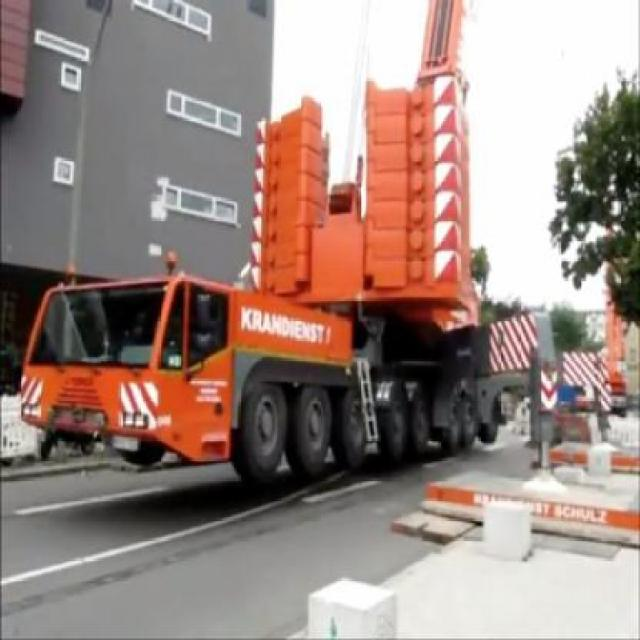Mobile Crane: (18, 1, 624, 505)
